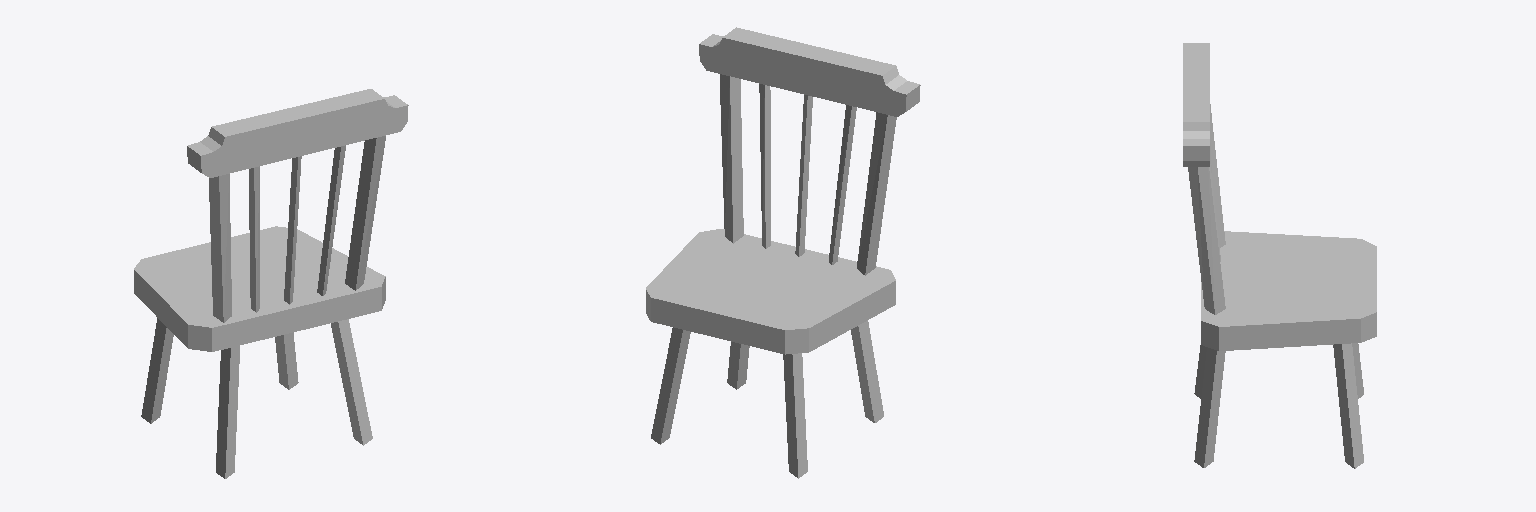
The model's file is chair.obj.
3 views of the same model, side by side, from view 1: azimuth 30°, elevation 25°; view 2: azimuth 150°, elevation 25°; view 3: azimuth 270°, elevation 25° (orthographic).
Parts seen in each view (by area): view 1: chair; view 2: chair; view 3: chair.
Boxes of the visible parts, <box> form: chair: <box>134,89,408,478</box>; chair: <box>646,27,920,478</box>; chair: <box>1183,43,1376,468</box>.
Size of the model in its own units: 1.81 by 2.9 by 1.47.